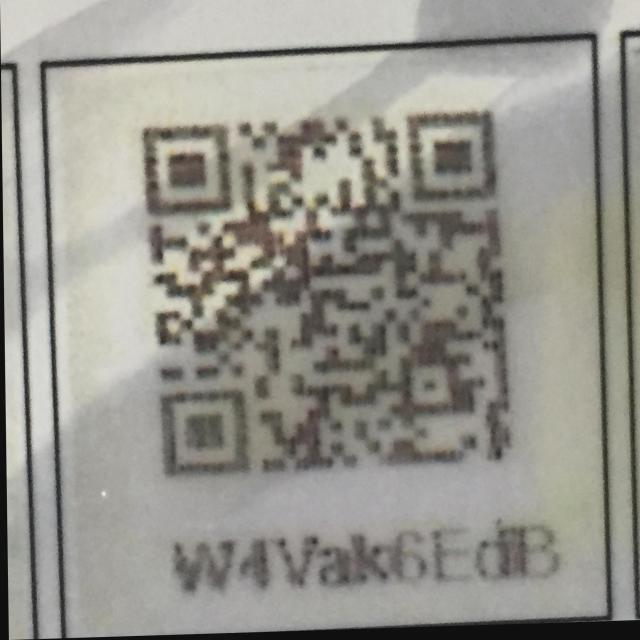QRCode: (132, 107, 528, 493)
